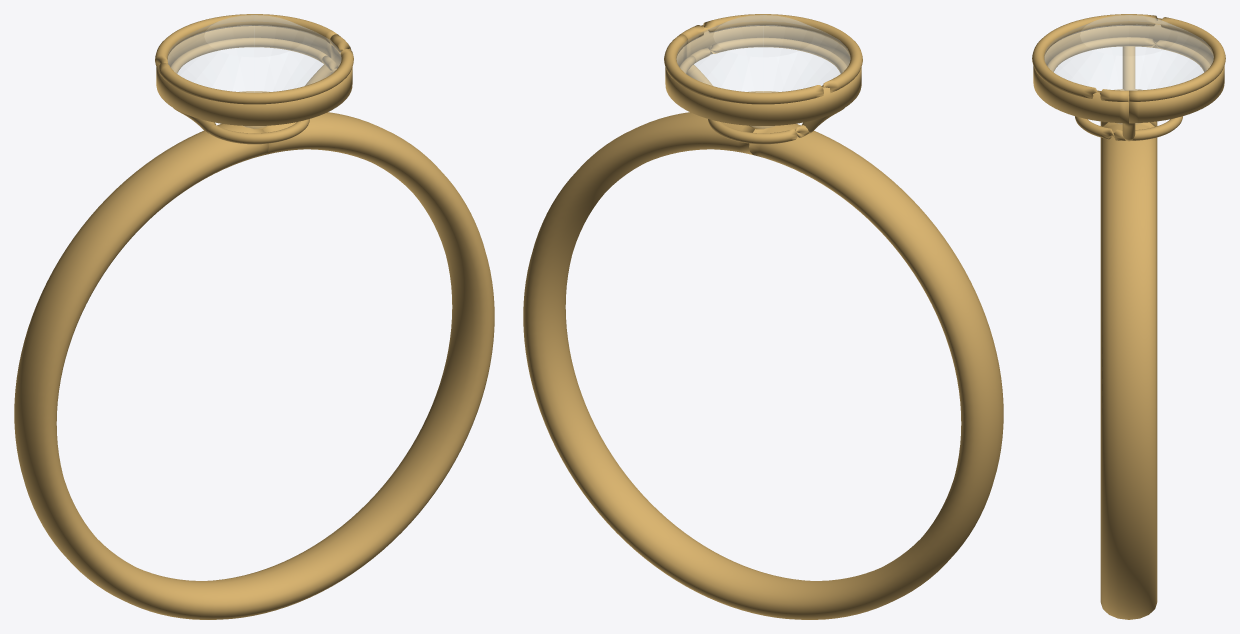
File: settings-full-bezel.glb
3 views of the same model, side by side, from view 1: azimuth 30°, elevation 25°; view 2: azimuth 150°, elevation 25°; view 3: azimuth 270°, elevation 25° (orthographic). The views are drawn at different scales.
Parts seen in each view (by area): view 1: Band, Gem, Bezel wall, Bezel rim, Bezel rim.001, Lower gallery; view 2: Band, Gem, Bezel wall, Bezel rim, Bezel rim.001, Lower gallery; view 3: Band, Gem, Bezel wall, Bezel rim, Bezel rim.001, Lower gallery, Bezel support.
Boxes of the visible parts, x1=… form: Band: x1=14, y1=112, x2=494, y2=619; Gem: x1=167, y1=15, x2=341, y2=128; Bezel wall: x1=156, y1=26, x2=352, y2=125; Bezel rim: x1=155, y1=14, x2=353, y2=104; Bezel rim.001: x1=170, y1=37, x2=338, y2=73; Lower gallery: x1=209, y1=91, x2=309, y2=144; Band: x1=523, y1=112, x2=1003, y2=619; Gem: x1=676, y1=15, x2=850, y2=128; Bezel wall: x1=665, y1=25, x2=861, y2=125; Bezel rim: x1=664, y1=14, x2=862, y2=104; Bezel rim.001: x1=679, y1=37, x2=847, y2=73; Lower gallery: x1=708, y1=91, x2=808, y2=144; Band: x1=1100, y1=121, x2=1157, y2=619; Gem: x1=1044, y1=15, x2=1213, y2=124; Bezel wall: x1=1033, y1=18, x2=1224, y2=123; Bezel rim: x1=1032, y1=14, x2=1225, y2=101; Bezel rim.001: x1=1047, y1=37, x2=1210, y2=71; Lower gallery: x1=1075, y1=89, x2=1182, y2=140; Bezel support: x1=1122, y1=46, x2=1135, y2=90.
Bounding box in the file's own units: 19.6 × 22.94 × 7.2.
